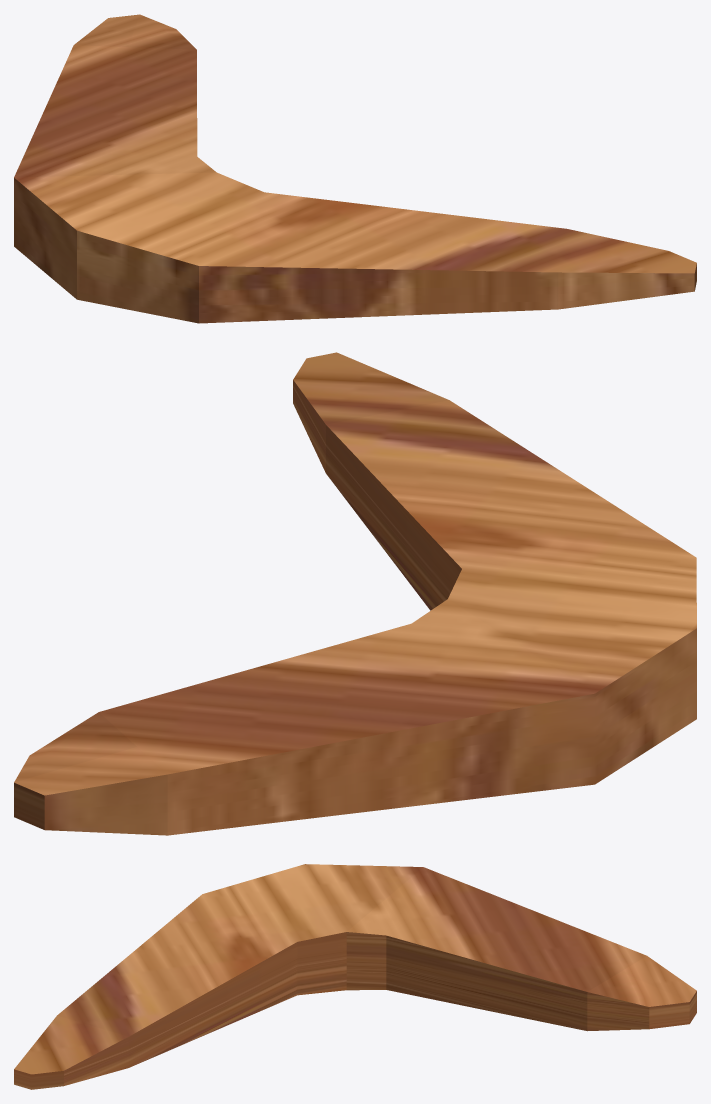
File: boomerangblend.fbx
3 renders of one model, top to bottom at view 1: azimuth 30°, elevation 25°; view 2: azimuth 150°, elevation 25°; view 3: azimuth 270°, elevation 25°, orthographic. The views are drawn at different scales.
Visible parts, largest first — view 1: Boomerang; view 2: Boomerang; view 3: Boomerang.
Part boxes in pixels (x1=…): Boomerang: x1=14, y1=14, x2=696, y2=323; Boomerang: x1=14, y1=352, x2=696, y2=835; Boomerang: x1=14, y1=864, x2=696, y2=1089.
Size of the model in its own units: 199 by 28.68 by 304.
